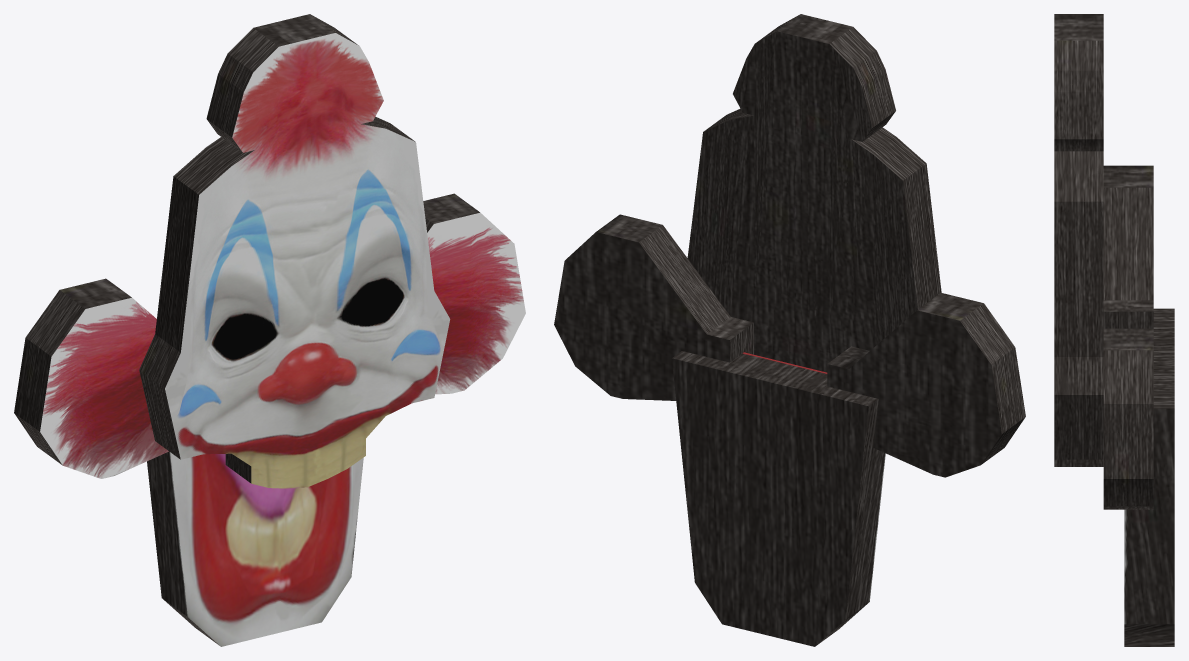
The model's file is clown.fbx.
The picture shows the model from 3 angles, left to right: view 1: azimuth 30°, elevation 25°; view 2: azimuth 150°, elevation 25°; view 3: azimuth 270°, elevation 25°; orthographic projection. The views are drawn at different scales.
Parts seen in each view (by area): view 1: polySurface2, polySurface1; view 2: polySurface2, polySurface1; view 3: polySurface2, polySurface1.
Boxes of the visible parts, left/top/right/bottom form: polySurface2: left=14, top=14, right=525, bottom=488; polySurface1: left=147, top=451, right=363, bottom=646; polySurface2: left=554, top=14, right=1025, bottom=477; polySurface1: left=672, top=351, right=885, bottom=646; polySurface2: left=1054, top=14, right=1153, bottom=509; polySurface1: left=1124, top=308, right=1174, bottom=646.
Bounding box in the file's own units: 6.83 × 8.35 × 1.52.
